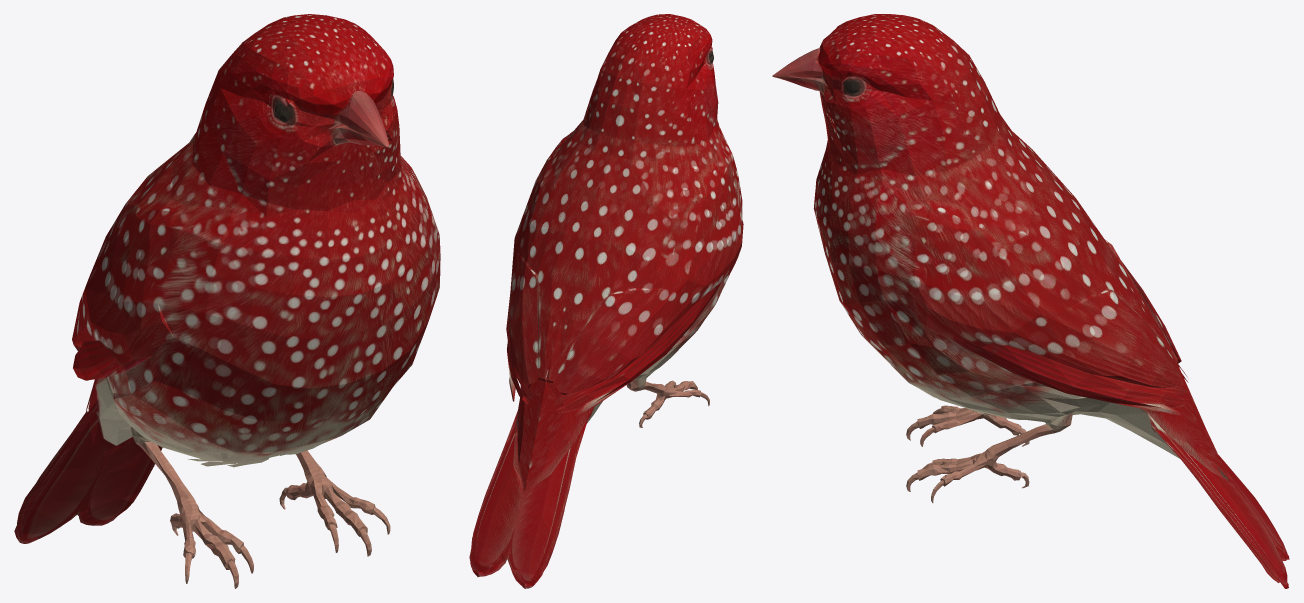
Rendered from amandava-amandava-3d.glb.
3 views of the same model, side by side, from view 1: azimuth 30°, elevation 25°; view 2: azimuth 150°, elevation 25°; view 3: azimuth 270°, elevation 25° (orthographic). The views are drawn at different scales.
Size of the model in its own units: 0.4365 by 0.9512 by 0.8062.
1 material, 1 textured.
